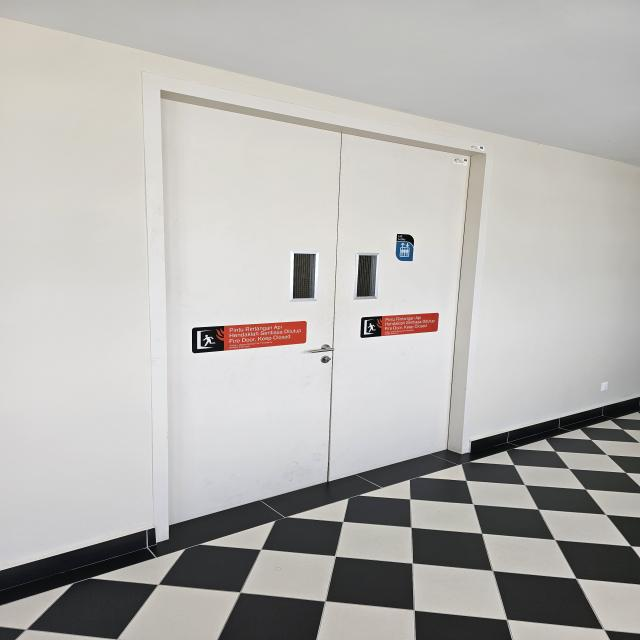door: (123, 66, 515, 538)
footpath: (219, 523, 640, 639)
